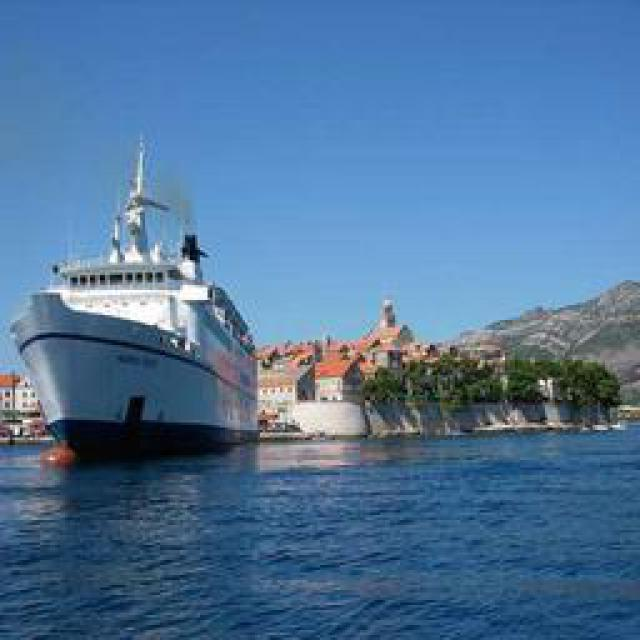Ship: (12, 130, 270, 458)
